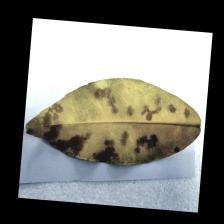canker: (30, 84, 169, 172)
